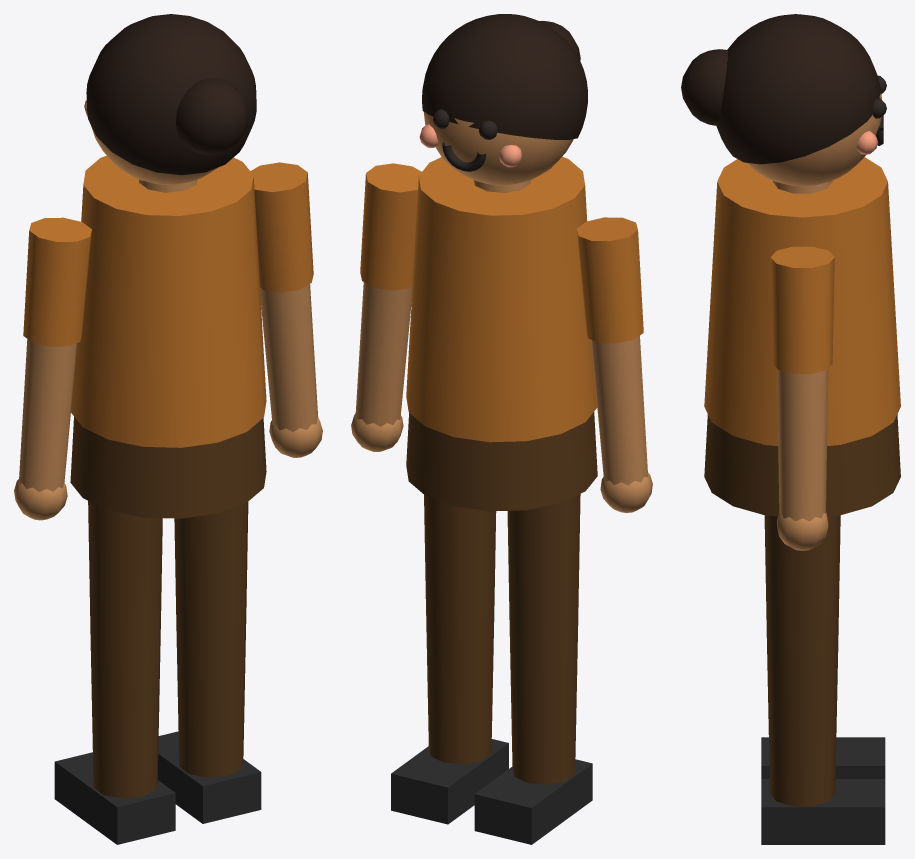
The model's file is person_c8782a.fbx.
The picture shows the model from 3 angles, left to right: view 1: azimuth 30°, elevation 25°; view 2: azimuth 150°, elevation 25°; view 3: azimuth 270°, elevation 25°; orthographic projection. The views are drawn at different scales.
Visible parts, largest first — view 1: M__person_c8782a-body, M__person_c8782a-shinL, M__person_c8782a-armL, M__person_c8782a-shinR, M__person_c8782a-armR, M__person_c8782a-legL, M__person_c8782a-legR; view 2: M__person_c8782a-body, M__person_c8782a-shinL, M__person_c8782a-shinR, M__person_c8782a-armL, M__person_c8782a-armR, M__person_c8782a-legL, M__person_c8782a-legR; view 3: M__person_c8782a-body, M__person_c8782a-shinR, M__person_c8782a-armR, M__person_c8782a-legR, M__person_c8782a-shinL.
Boxes of the visible parts, bbox=[...] form: M__person_c8782a-body: bbox=[70, 14, 266, 518]; M__person_c8782a-shinL: bbox=[54, 632, 175, 844]; M__person_c8782a-armL: bbox=[14, 217, 91, 520]; M__person_c8782a-shinR: bbox=[157, 611, 261, 823]; M__person_c8782a-armR: bbox=[250, 162, 322, 457]; M__person_c8782a-legL: bbox=[88, 501, 162, 648]; M__person_c8782a-legR: bbox=[174, 502, 248, 627]; M__person_c8782a-body: bbox=[406, 14, 597, 511]; M__person_c8782a-shinL: bbox=[474, 622, 592, 844]; M__person_c8782a-shinR: bbox=[391, 602, 508, 824]; M__person_c8782a-armL: bbox=[576, 217, 652, 512]; M__person_c8782a-armR: bbox=[351, 163, 421, 451]; M__person_c8782a-legL: bbox=[507, 494, 580, 638]; M__person_c8782a-legR: bbox=[424, 495, 496, 618]; M__person_c8782a-body: bbox=[681, 14, 900, 516]; M__person_c8782a-shinR: bbox=[761, 643, 885, 844]; M__person_c8782a-armR: bbox=[770, 246, 834, 550]; M__person_c8782a-legR: bbox=[764, 515, 840, 657]; M__person_c8782a-shinL: bbox=[761, 737, 885, 778].
Size of the model in its own units: 0.67 by 1.68 by 0.425.
